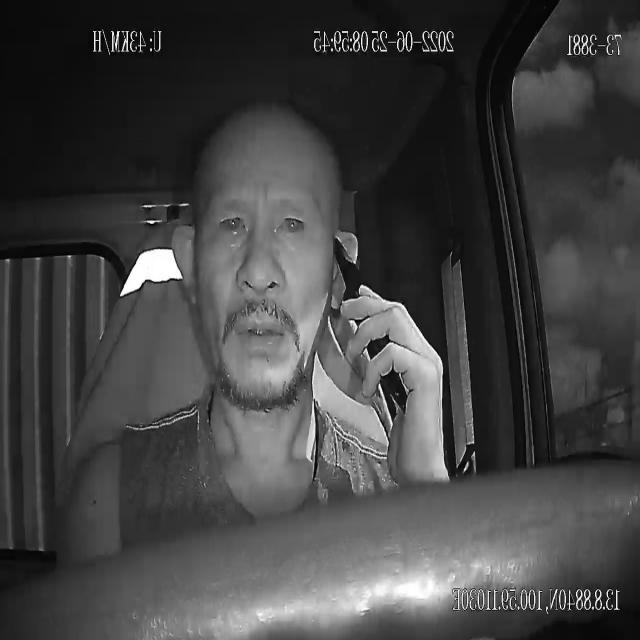phone: (332, 228, 406, 416)
